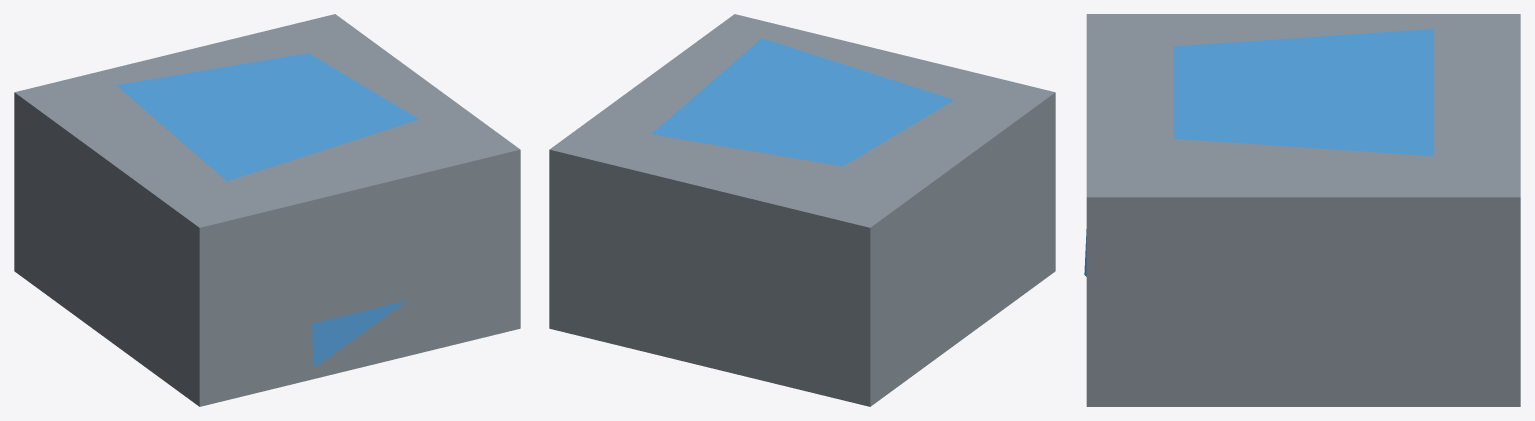
The model's file is AL_Barracks_LOD1.glb.
3 views of the same model, side by side, from view 1: azimuth 30°, elevation 25°; view 2: azimuth 150°, elevation 25°; view 3: azimuth 270°, elevation 25° (orthographic). The views are drawn at different scales.
Visible parts, largest first — view 1: EntranceGate; view 2: EntranceGate; view 3: EntranceGate.
Part boxes in pixels (x1,y1,x2,y2): EntranceGate: (14, 14, 520, 406); EntranceGate: (549, 14, 1055, 406); EntranceGate: (1084, 14, 1520, 406).
Size of the model in its own units: 600 by 353 by 603.
